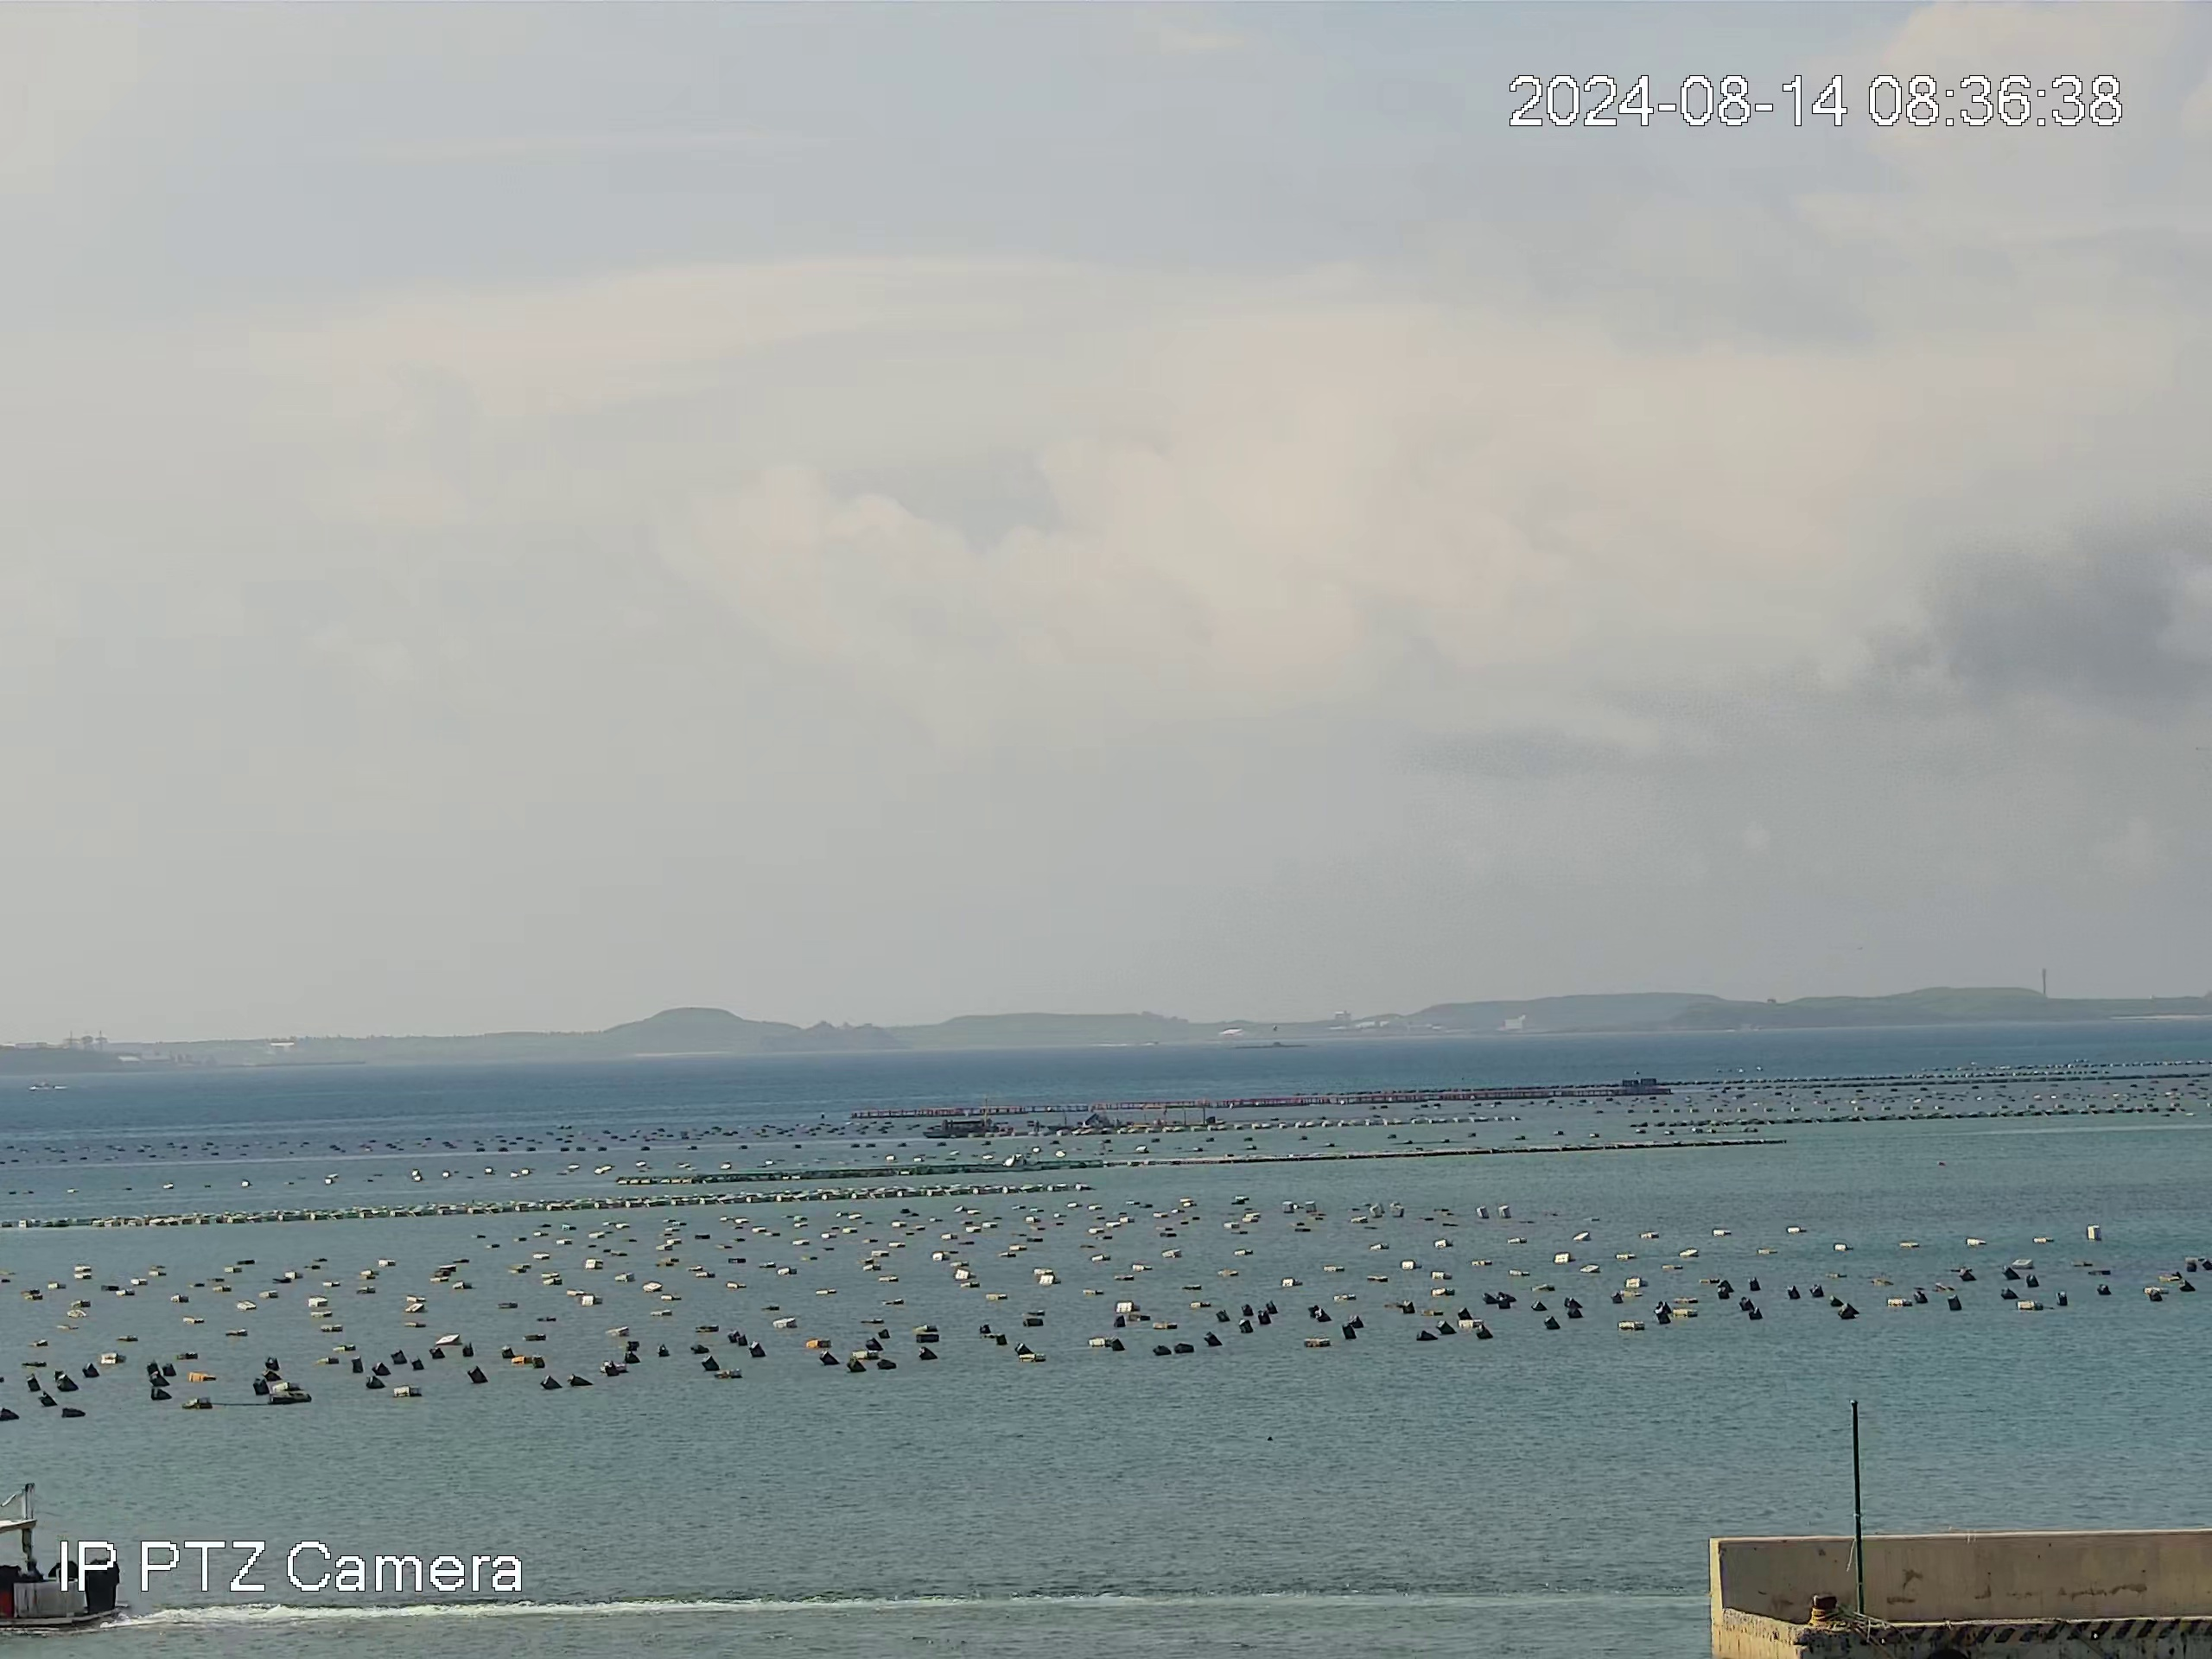boat: (924, 1120, 991, 1141)
